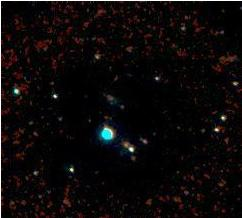star: (2, 75, 32, 105)
